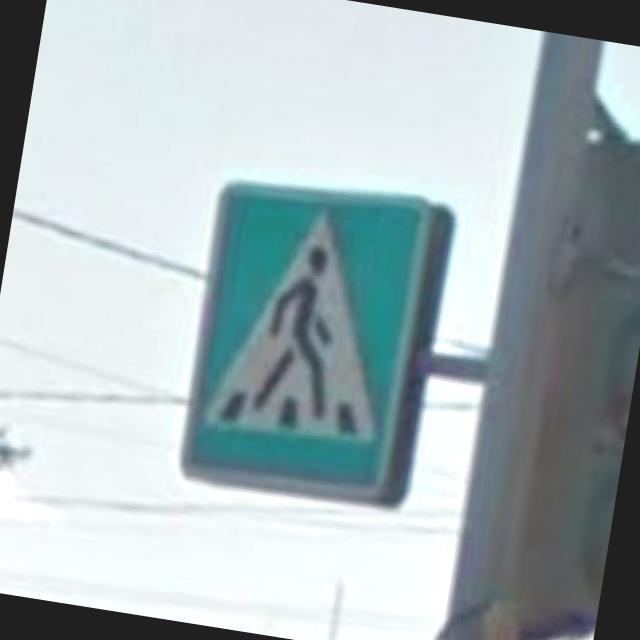Przejscie dla pieszych: (174, 163, 434, 509)
